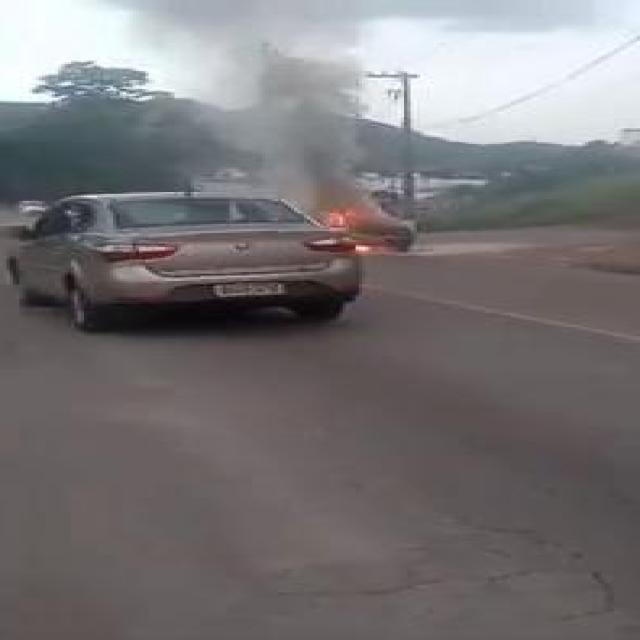Fire: (318, 210, 370, 252)
Smoke: (204, 5, 424, 198)
